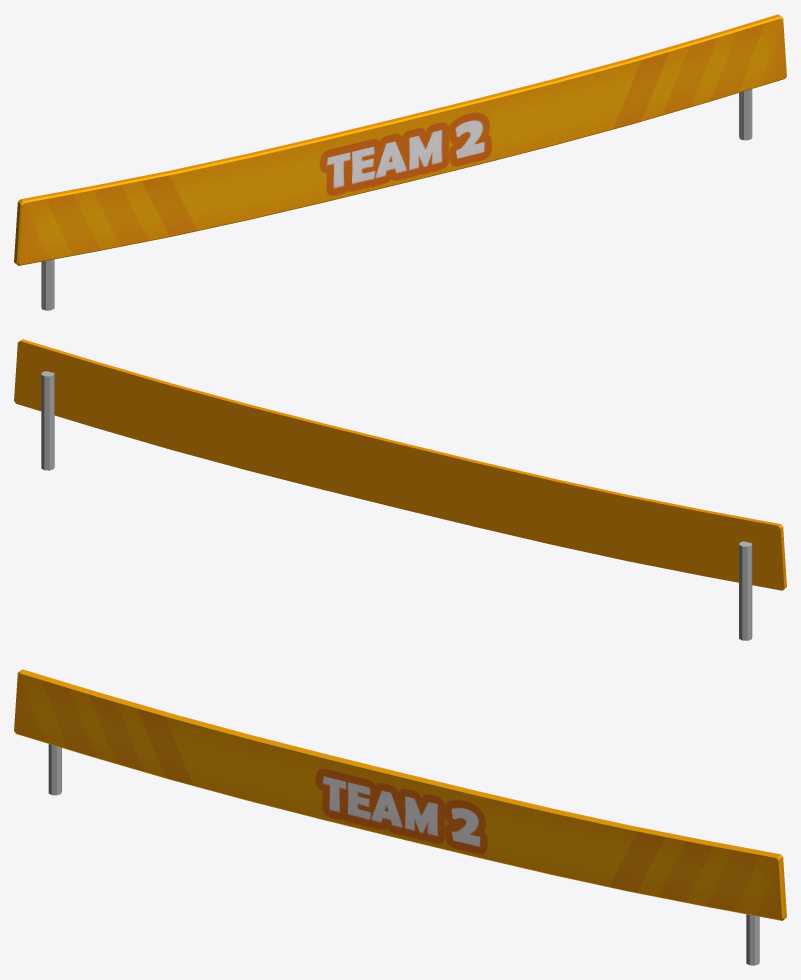
File: billboards_OnColumn_2_D.fbx
3 views of the same model, one above another, from view 1: azimuth 30°, elevation 25°; view 2: azimuth 150°, elevation 25°; view 3: azimuth 330°, elevation 25° (orthographic).
Visible parts, largest first — view 1: billboards_OnColumn_2_D; view 2: billboards_OnColumn_2_D; view 3: billboards_OnColumn_2_D.
Boxes of the visible parts, x1,y1,x2,y2 form: billboards_OnColumn_2_D: (14, 14, 786, 310); billboards_OnColumn_2_D: (14, 339, 786, 640); billboards_OnColumn_2_D: (14, 669, 786, 965).
Size of the model in its own units: 784 by 114 by 16.21.
